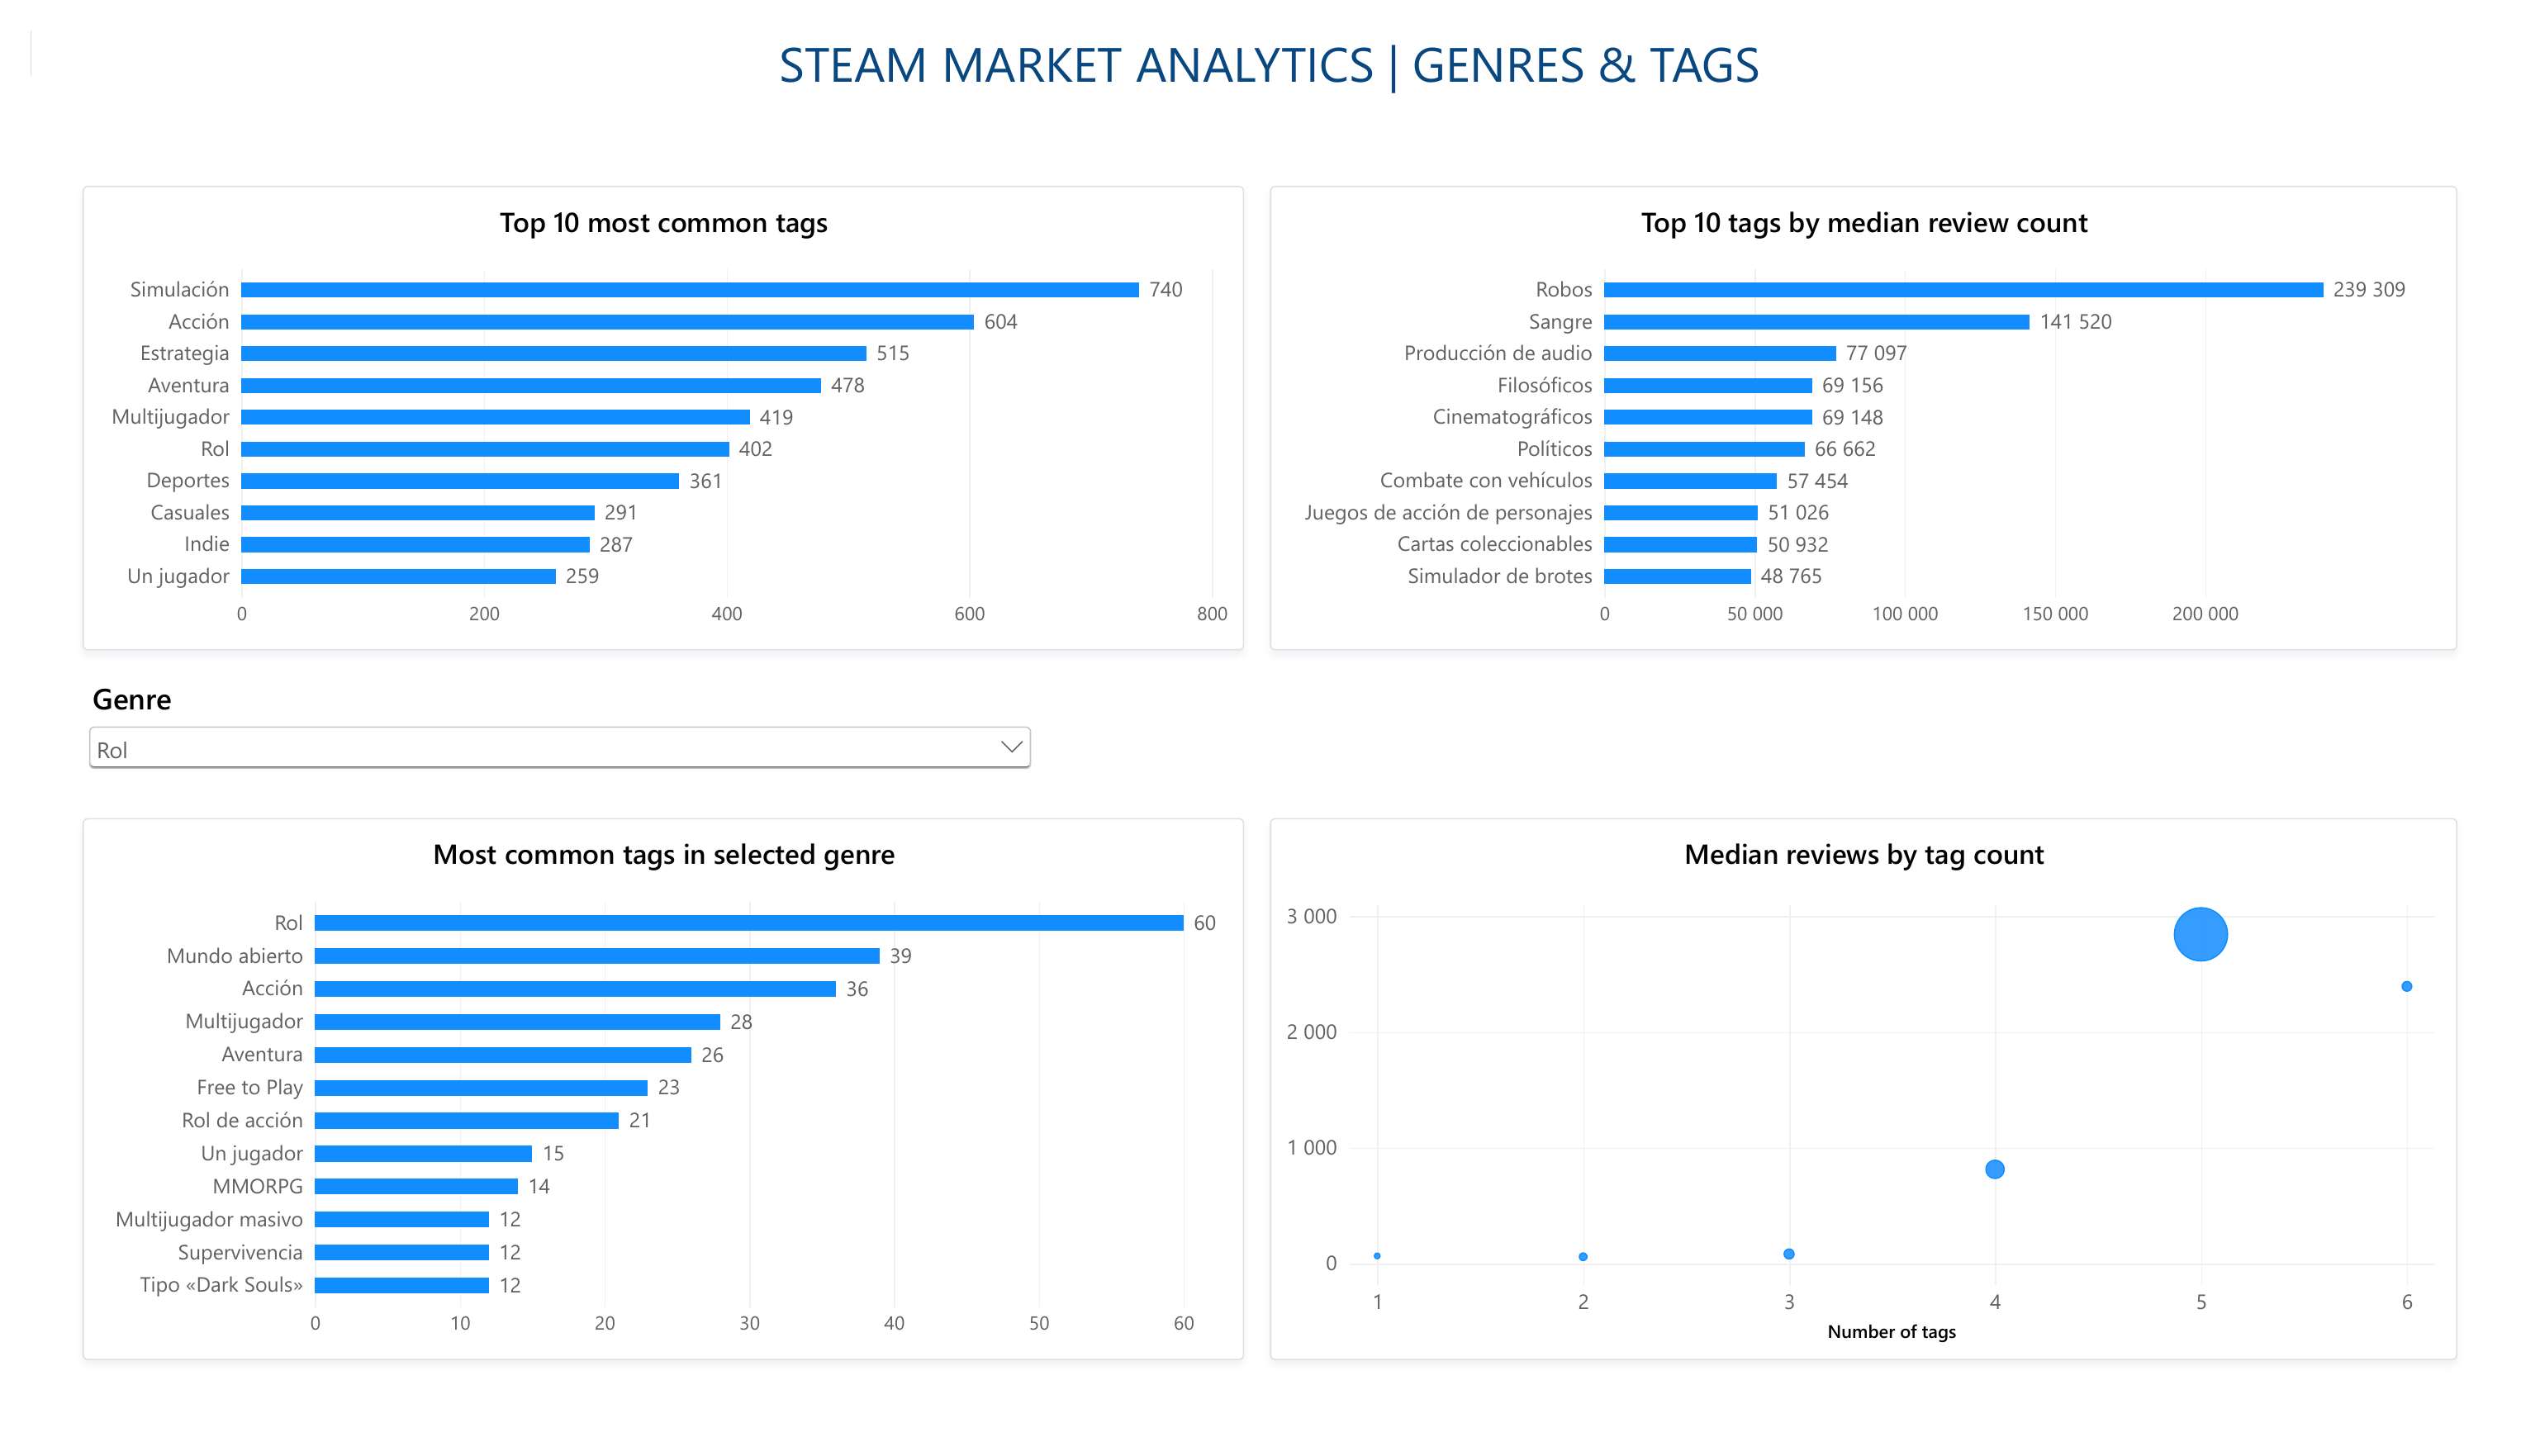

The dashboard page shown, as its layout file describes it:
{"tool":"powerbi","page":{"name":"Tags & genres","canvas":[1920,1080],"ordinal":3},"visuals":[{"type":"barChart","title":"\tTop 10 most common tags","fields":{"Category":["analytics tags.name"],"Y":["analytics steam_items.Liczba gier"]},"box":[40,120,900,360],"z":0},{"type":"barChart","title":"\tTop 10 tags by median review count","fields":{"Category":["analytics tags.name"],"Y":["analytics steam_items.Mediana recenzji na grę"]},"box":[960,120,920,360],"z":1000},{"type":"slicer","fields":{"Values":["analytics genres.name"]},"box":[40,501.7,740,77.3],"z":2000},{"type":"barChart","title":"\tMost common tags in selected genre","fields":{"Category":["analytics tags.name"],"Y":["analytics steam_items.Liczba gier z tagiem w gatunku"]},"box":[40,610,900,420],"z":3000},{"type":"scatterChart","title":"\tMedian reviews by tag count","fields":{"Size":["analytics steam_items.Liczba gier"],"X":["analytics steam_items.Tag Count"],"Y":["analytics steam_items.Mediana recenzji na grę"]},"box":[960,610,920,420],"z":4000},{"type":"textbox","title":"Tytuł","box":[40,0,1840,103.8],"z":5000}]}

Visuals, with their boxes on the page's 1920x1080 design canvas (x1, y1, x2, y2). These are canvas units, not pixel positions in the 2540x1456 screenshot, which may show the page scaled, cropped or inside an application window:
"	Top 10 most common tags" barChart: locate(40, 120, 940, 480)
"	Top 10 tags by median review count" barChart: locate(960, 120, 1880, 480)
slicer - analytics genres.name: locate(40, 502, 780, 579)
"	Most common tags in selected genre" barChart: locate(40, 610, 940, 1030)
"	Median reviews by tag count" scatterChart: locate(960, 610, 1880, 1030)
"Tytuł" textbox: locate(40, 0, 1880, 104)
